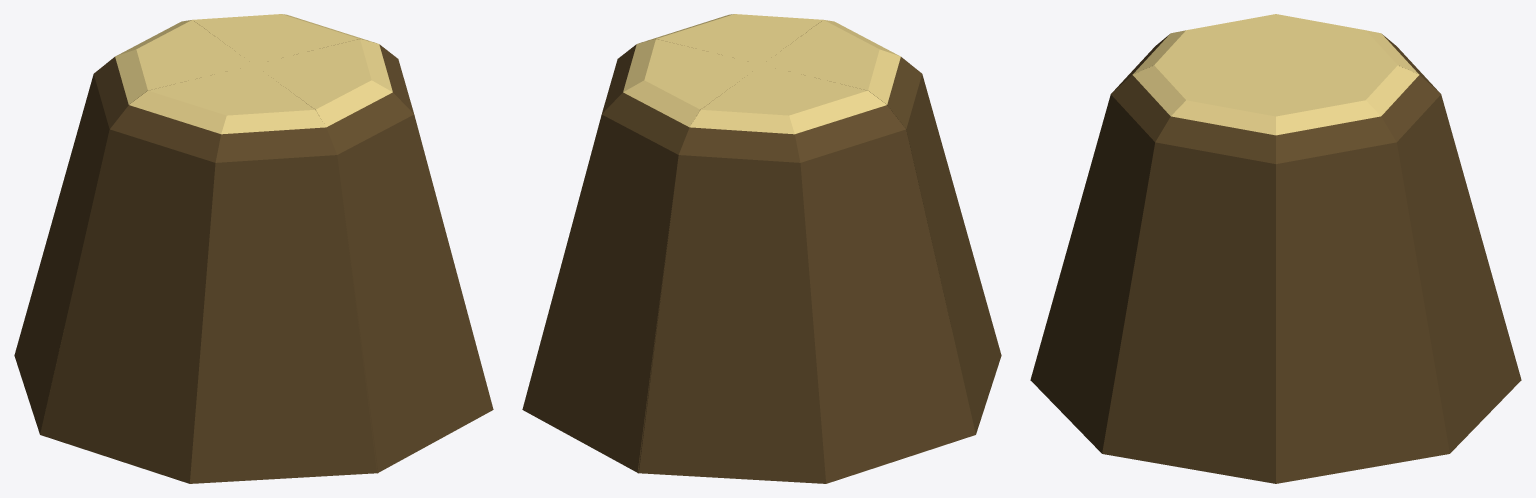
The model's file is tree_3.fbx.
3 views of the same model, side by side, from view 1: azimuth 30°, elevation 25°; view 2: azimuth 150°, elevation 25°; view 3: azimuth 270°, elevation 25° (orthographic).
Visible parts, largest first — view 1: Куб; view 2: Куб; view 3: Куб.
Boxes of the visible parts, x1,y1,x2,y2 form: Куб: (14,14,493,483); Куб: (522,14,1001,483); Куб: (1030,14,1521,483).
Bounding box in the file's own units: 282 × 200 × 282.
